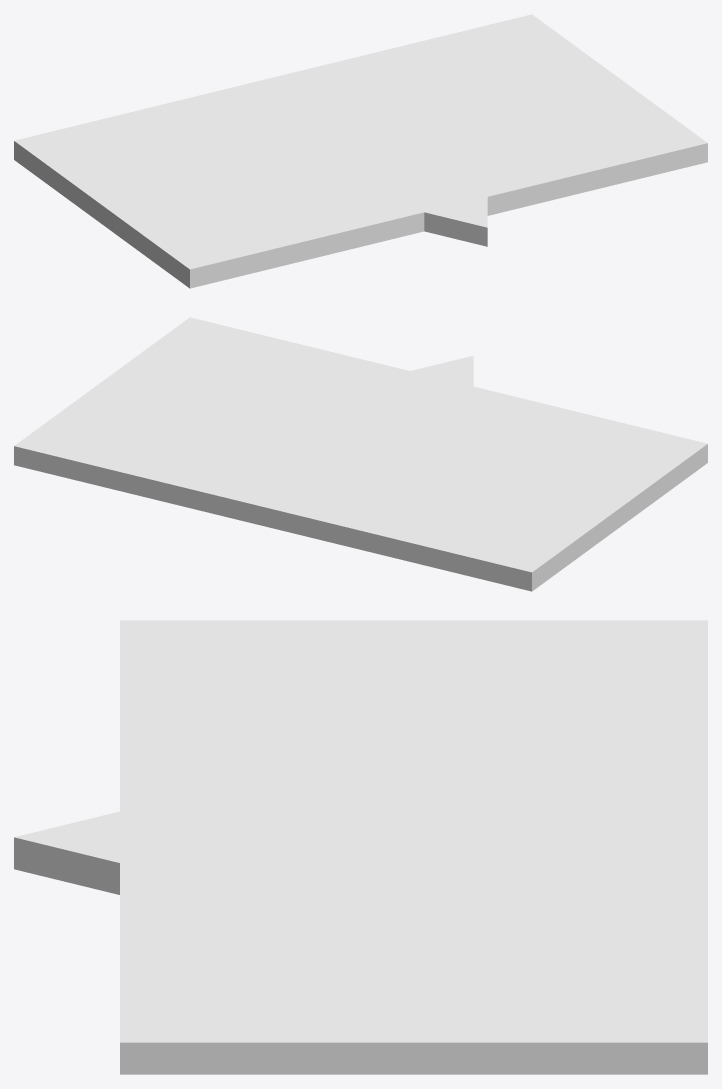
The model's file is toolTip.fbx.
The picture shows the model from 3 angles, top to bottom: view 1: azimuth 30°, elevation 25°; view 2: azimuth 150°, elevation 25°; view 3: azimuth 270°, elevation 25°; orthographic projection. The views are drawn at different scales.
Parts seen in each view (by area): view 1: board, tip; view 2: board, tip; view 3: board, tip.
Part boxes in pixels (left/top/right/bottom): board: left=14, top=14, right=707, bottom=288; tip: left=424, top=197, right=487, bottom=246; board: left=14, top=317, right=707, bottom=591; tip: left=411, top=355, right=473, bottom=386; board: left=120, top=620, right=707, bottom=1074; tip: left=14, top=811, right=119, bottom=894.
Size of the model in its own units: 170 by 6 by 118.
1 material, 1 textured.
